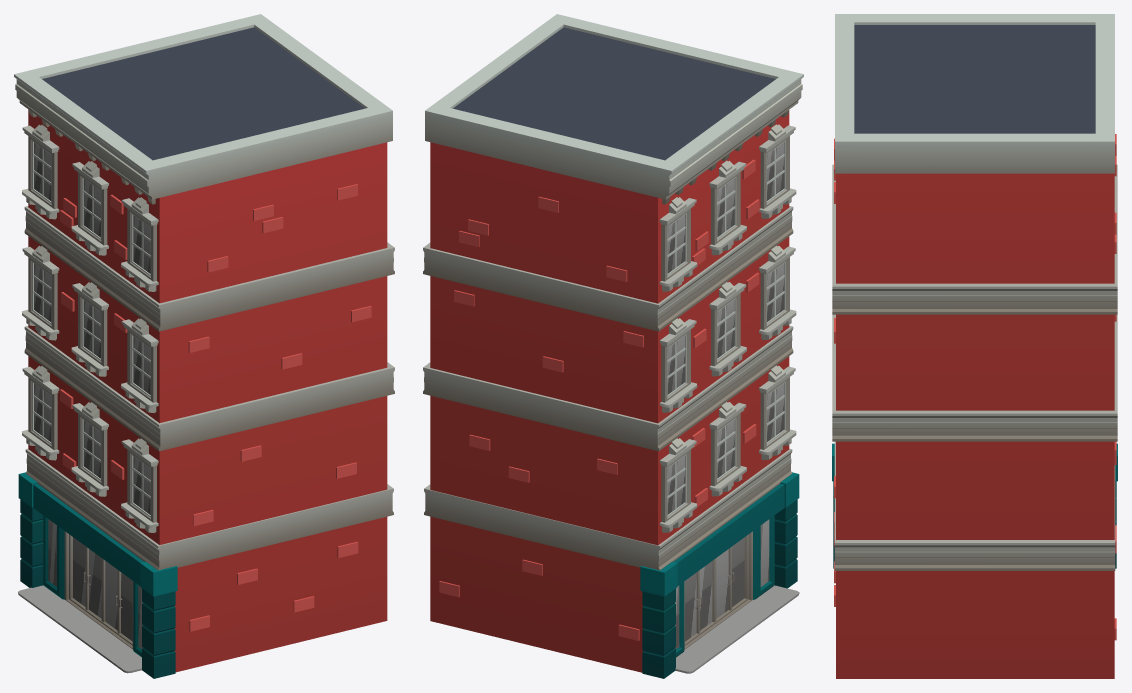
File: Building_21_2_A.fbx
3 views of the same model, side by side, from view 1: azimuth 30°, elevation 25°; view 2: azimuth 150°, elevation 25°; view 3: azimuth 270°, elevation 25° (orthographic). The views are drawn at different scales.
Visible parts, largest first — view 1: Building_21_2_A; view 2: Building_21_2_A; view 3: Building_21_2_A.
Boxes of the visible parts, left/top/right/bottom form: Building_21_2_A: left=14, top=14, right=394, bottom=678; Building_21_2_A: left=423, top=14, right=803, bottom=678; Building_21_2_A: left=832, top=14, right=1117, bottom=678.
Bounding box in the file's own units: 781 × 1485 × 713.
